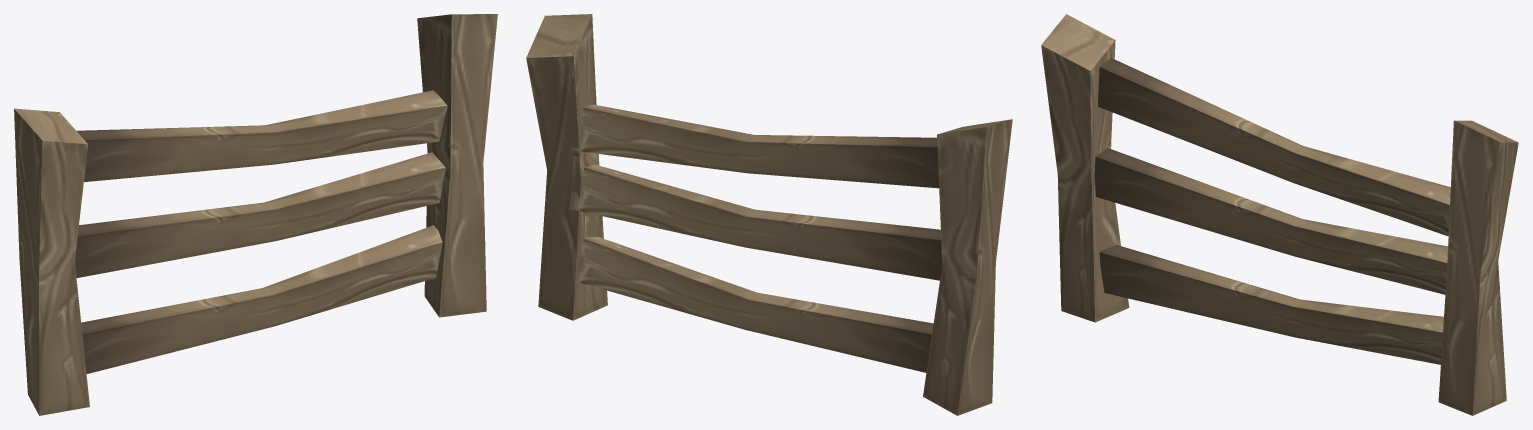
File: Egypt_Village_Props_16.FBX
3 renders of one model, left to right at view 1: azimuth 30°, elevation 25°; view 2: azimuth 150°, elevation 25°; view 3: azimuth 330°, elevation 25°, orthographic. The views are drawn at different scales.
Visible parts, largest first — view 1: Egypt_Village_Props_16; view 2: Egypt_Village_Props_16; view 3: Egypt_Village_Props_16.
Part boxes in pixels (x1,y1,x2,y2): Egypt_Village_Props_16: (14, 14, 497, 415); Egypt_Village_Props_16: (526, 14, 1012, 415); Egypt_Village_Props_16: (1041, 14, 1518, 415).
Size of the model in its own units: 246 by 150 by 36.85.
